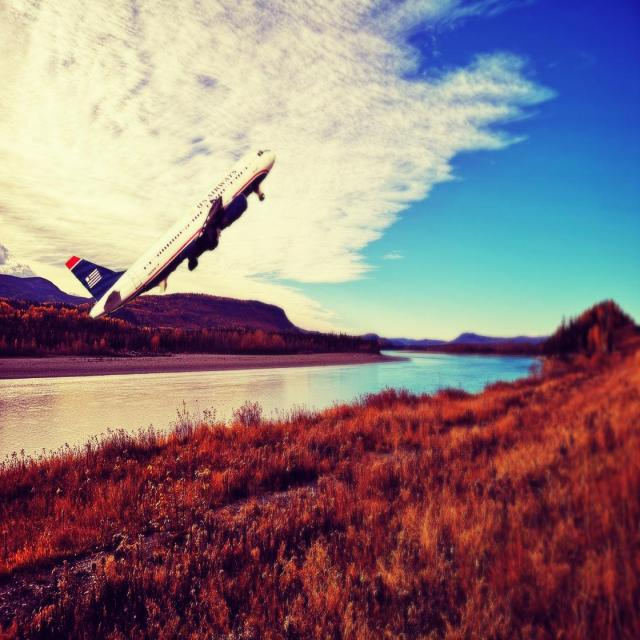airplane: (65, 148, 275, 320)
